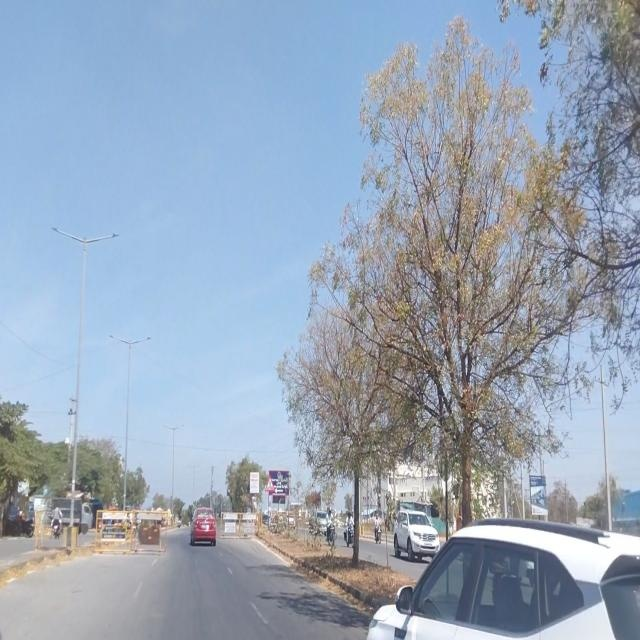bien_nguy_hiem: (266, 475, 274, 493)
